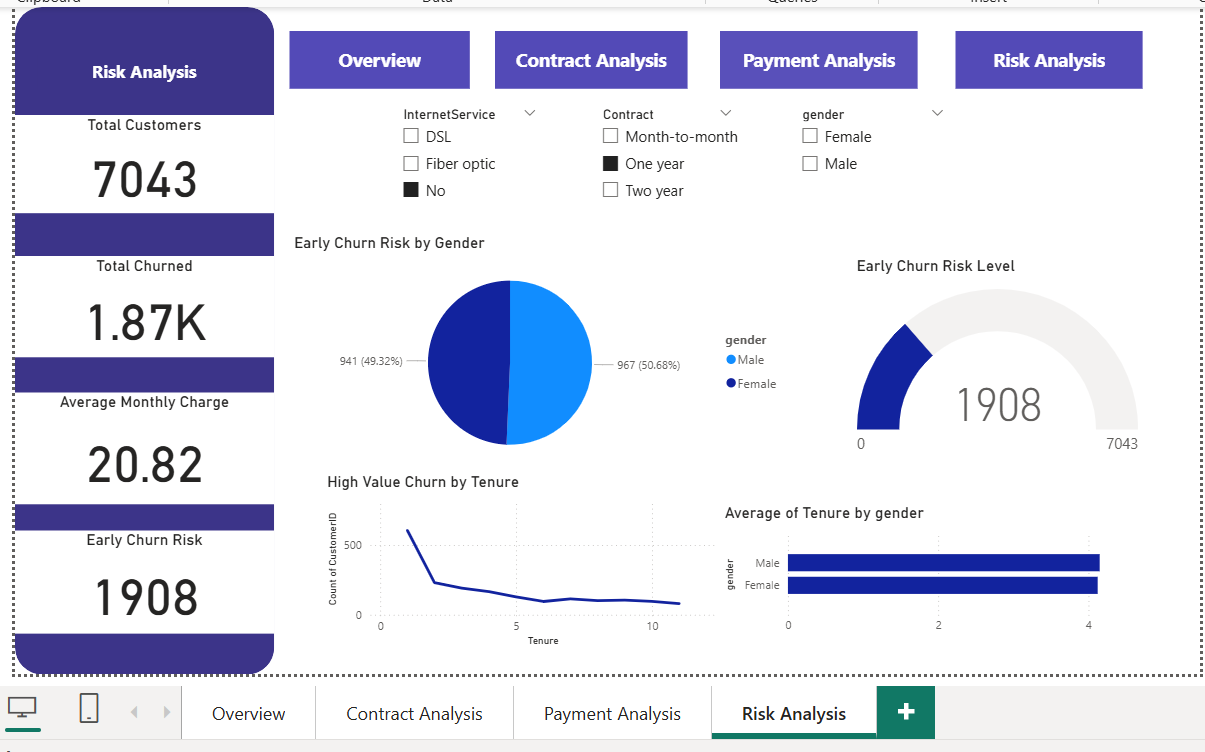

This screenshot's page, from the dashboard's own definition file:
{"tool":"powerbi","page":{"name":"Risk Analysis","canvas":[1280,720],"ordinal":3},"visuals":[{"type":"shape","box":[0,0,279.9,720.5],"z":0},{"type":"textbox","box":[24.6,51,230.6,37.8],"z":1000},{"type":"card","title":"Total Customers","fields":{"Values":["CountNonNull(Customers.customerID)"]},"box":[0,117.2,279.7,105.8],"z":2000},{"type":"card","title":"Total Churned","fields":{"Values":["Sum(qry_churn_by_contract.churned)"]},"box":[0,268.3,279.7,109.6],"z":3000},{"type":"card","title":"Average Monthly Charge","fields":{"Values":["Avg(Services.MonthlyCharges)"]},"box":[0,415.8,279.7,120.9],"z":4000},{"type":"card","title":"Early Churn Risk","fields":{"Values":["CountNonNull(Q_Early_Churn_Risk.CustomerID)"]},"box":[0,565,279.7,111.5],"z":5000},{"type":"actionButton","box":[296.7,26.5,194.6,62.4],"z":6000},{"type":"actionButton","box":[517.8,26.5,207.9,62.4],"z":7000},{"type":"actionButton","box":[761.6,26.5,213.5,62.4],"z":8000},{"type":"actionButton","box":[1014.8,26.5,202.2,62.4],"z":9000},{"type":"slicer","fields":{"Values":["Services.InternetService"]},"box":[406.3,102,168.2,124.7],"z":10000},{"type":"slicer","fields":{"Values":["Services.Contract"]},"box":[621.7,102,164.4,124.7],"z":11000},{"type":"slicer","fields":{"Values":["Customers.gender"]},"box":[837.2,102,177.6,124.7],"z":12000},{"type":"pieChart","title":"Early Churn Risk by Gender","fields":{"Category":["Q_Early_Churn_Risk.gender"],"Y":["CountNonNull(Q_Early_Churn_Risk.CustomerID)"]},"box":[296.7,243.8,540.5,258.9],"z":13000},{"type":"gauge","title":"Early Churn Risk Level","fields":{"Y":["CountNonNull(Q_Early_Churn_Risk.CustomerID)"],"MaxValue":["CountNonNull(Customers.customerID)"]},"box":[903.3,268.3,313.7,234.3],"z":14000},{"type":"lineChart","title":"High Value Churn by Tenure ","fields":{"Category":["Q_Early_Churn_Risk.Tenure"],"Y":["CountNonNull(Q_Early_Churn_Risk.CustomerID)"]},"box":[332.6,502.7,429,192.8],"z":14001},{"type":"clusteredBarChart","fields":{"Y":["Avg(Q_Early_Churn_Risk.Tenure)"],"Category":["Q_Early_Churn_Risk.gender"]},"box":[761.6,536.7,487.6,149.3],"z":14002}]}

Visuals, with their boxes on the page's 1280x720 design canvas (x1, y1, x2, y2). These are canvas units, not pixel positions in the 1205x752 screenshot, which may show the page scaled, cropped or inside an application window:
shape: 0/0/280/720
textbox: 25/51/255/89
"Total Customers" card: 0/117/280/223
"Total Churned" card: 0/268/280/378
"Average Monthly Charge" card: 0/416/280/537
"Early Churn Risk" card: 0/565/280/676
actionButton: 297/26/491/89
actionButton: 518/26/726/89
actionButton: 762/26/975/89
actionButton: 1015/26/1217/89
slicer - Services.InternetService: 406/102/574/227
slicer - Services.Contract: 622/102/786/227
slicer - Customers.gender: 837/102/1015/227
"Early Churn Risk by Gender" pieChart: 297/244/837/503
"Early Churn Risk Level" gauge: 903/268/1217/503
"High Value Churn by Tenure " lineChart: 333/503/762/696
clusteredBarChart - Avg(Q_Early_Churn_Risk.Tenure) x Q_Early_Churn_Risk.gender: 762/537/1249/686
